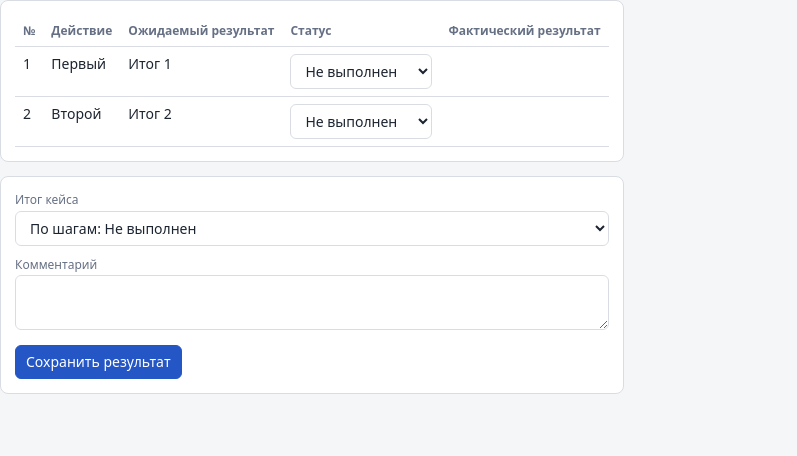
Test: форма результата › провал без фактического результата не отправляется
Select "Провален" in the dropdown named "Статус шага 2". click: (361, 122)
box: [290,104,432,139]
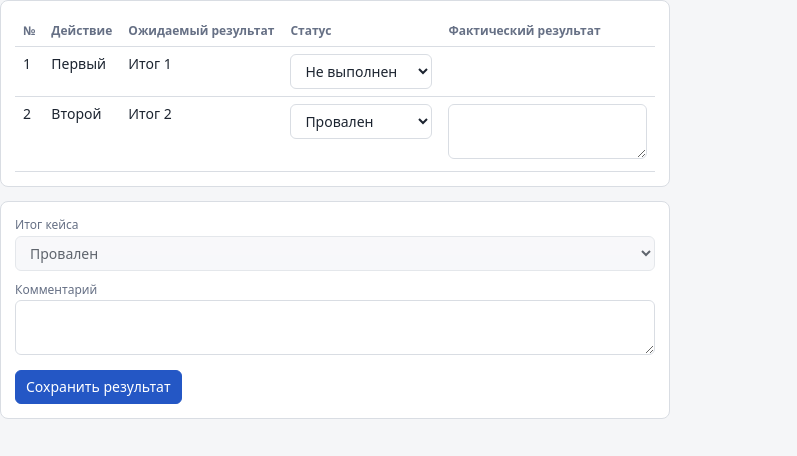
Click the button "Сохранить результат". click: (98, 387)
box: [15,370,182,404]
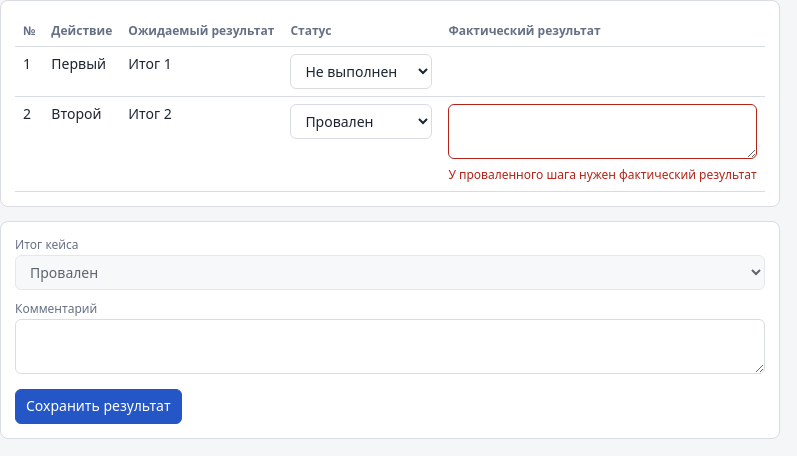
Expected: the text "У проваленного шага нужен фактический результат" is shown, [448,166,757,184]
